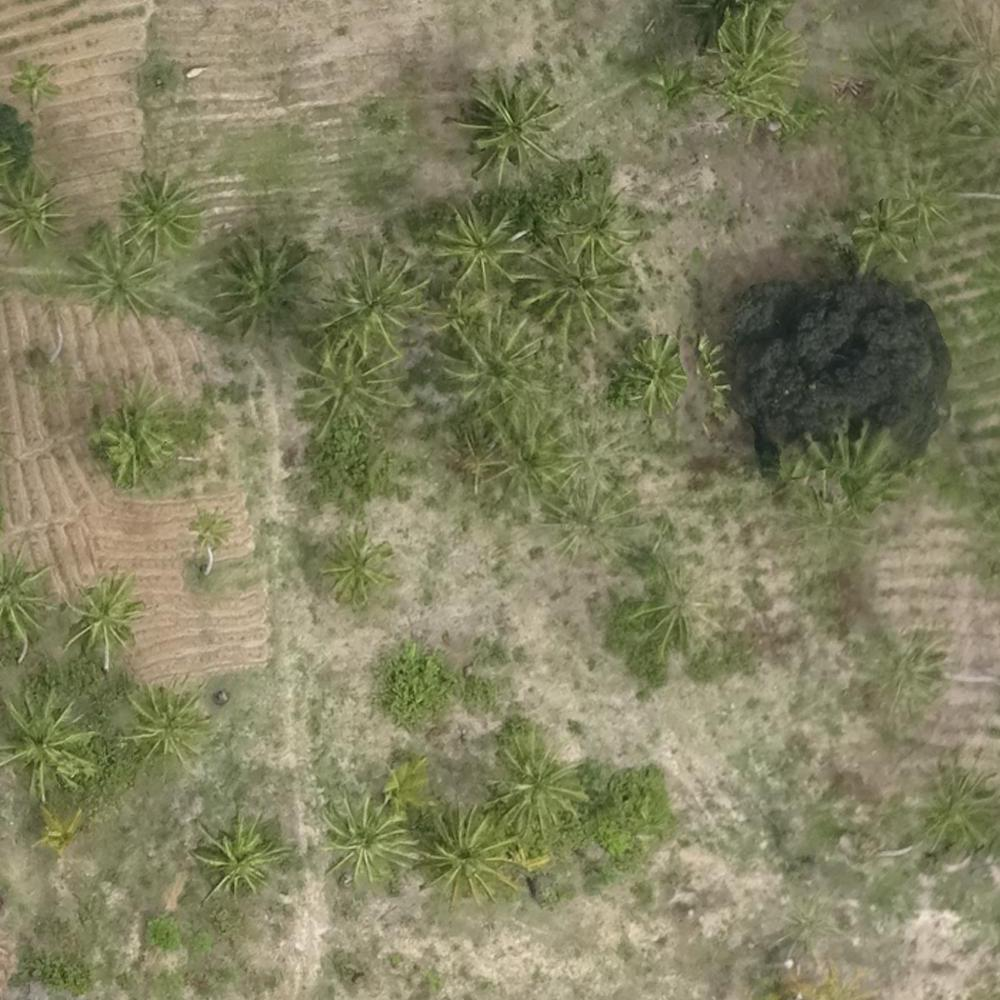Palm: (288, 340, 410, 440), (210, 233, 319, 338), (524, 234, 629, 342), (428, 307, 540, 407), (455, 71, 561, 174), (324, 249, 432, 349), (4, 693, 97, 801), (65, 233, 167, 330), (414, 801, 516, 897), (695, 18, 801, 110), (488, 735, 594, 827), (183, 813, 285, 907), (320, 791, 418, 883), (433, 198, 524, 291), (119, 684, 209, 765), (113, 173, 197, 257), (62, 573, 143, 654), (620, 332, 693, 419), (317, 528, 396, 604), (1, 171, 67, 251)
